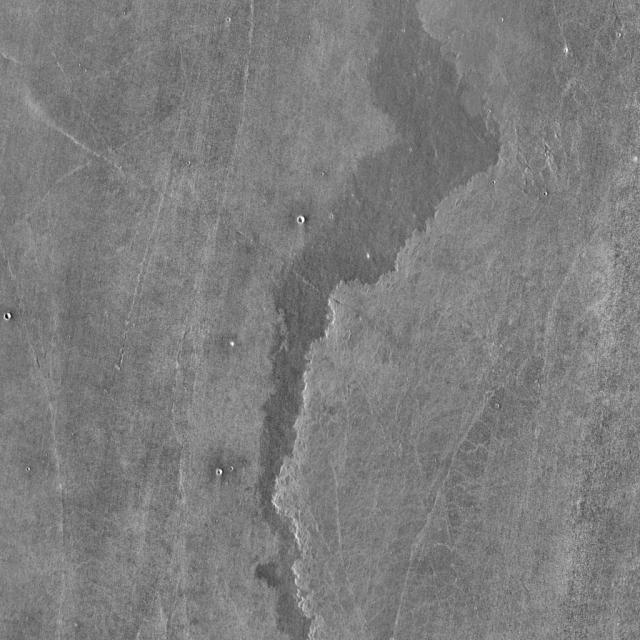crater: (296, 210, 303, 216)
